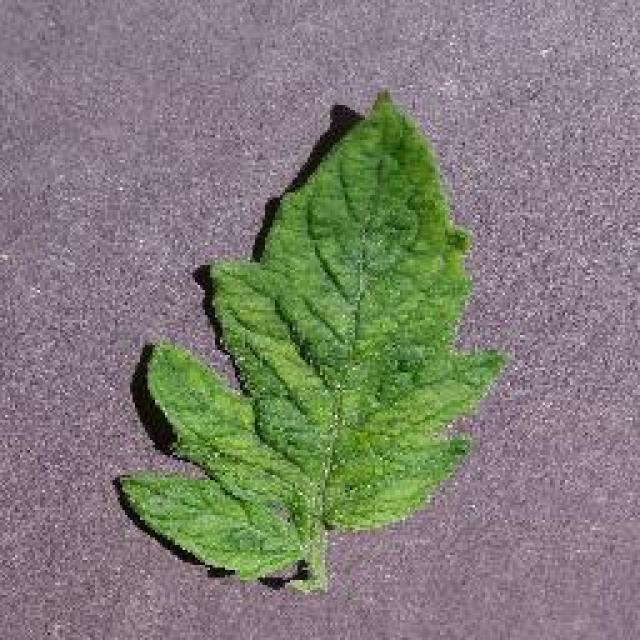Tomato spider mites leaf: (118, 82, 510, 580)
